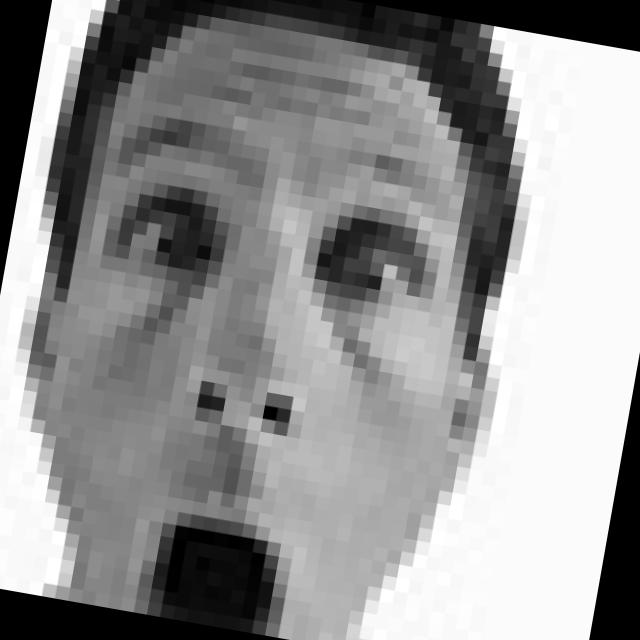surprise: (26, 90, 469, 640)
